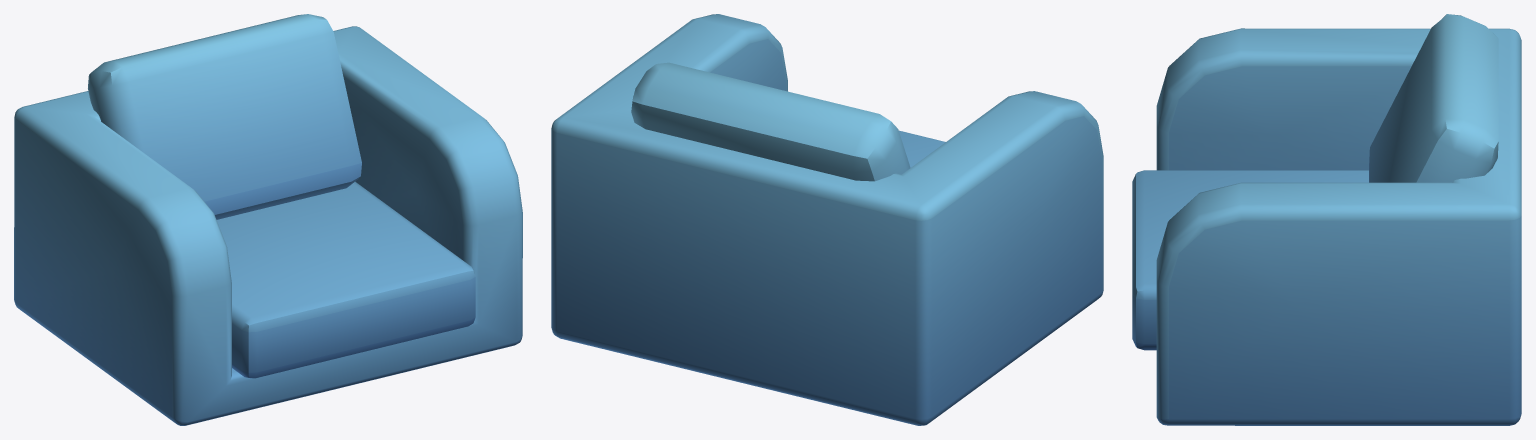
3 views of the same model, side by side, from view 1: azimuth 30°, elevation 25°; view 2: azimuth 150°, elevation 25°; view 3: azimuth 270°, elevation 25° (orthographic). The views are drawn at different scales.
Visible parts, largest first — view 1: armchair; view 2: armchair; view 3: armchair.
Boxes of the visible parts, x1,y1,x2,y2 form: armchair: (14, 14, 522, 425); armchair: (551, 14, 1103, 425); armchair: (1132, 14, 1521, 425).
Bounding box in the file's own units: 1.8 × 1.22 × 1.6.
1 material, 1 textured.
